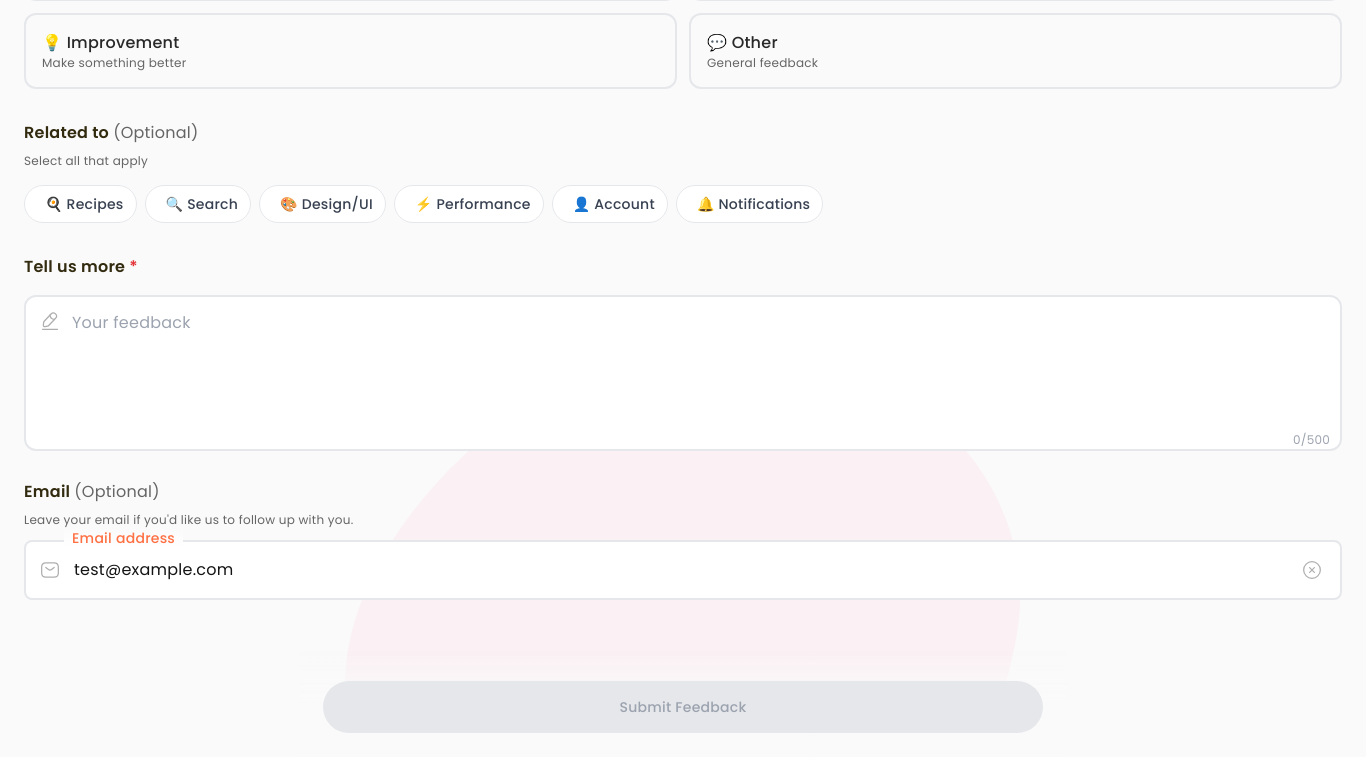
FeedbackPage › Form Interactions › shows character count
This screenshot has width=1366, height=757.
(page scrolled)
Type "Test" into the text box with placeholder "Your feedback" at {"x": 683, "y": 373}, box [24,295,1342,451]
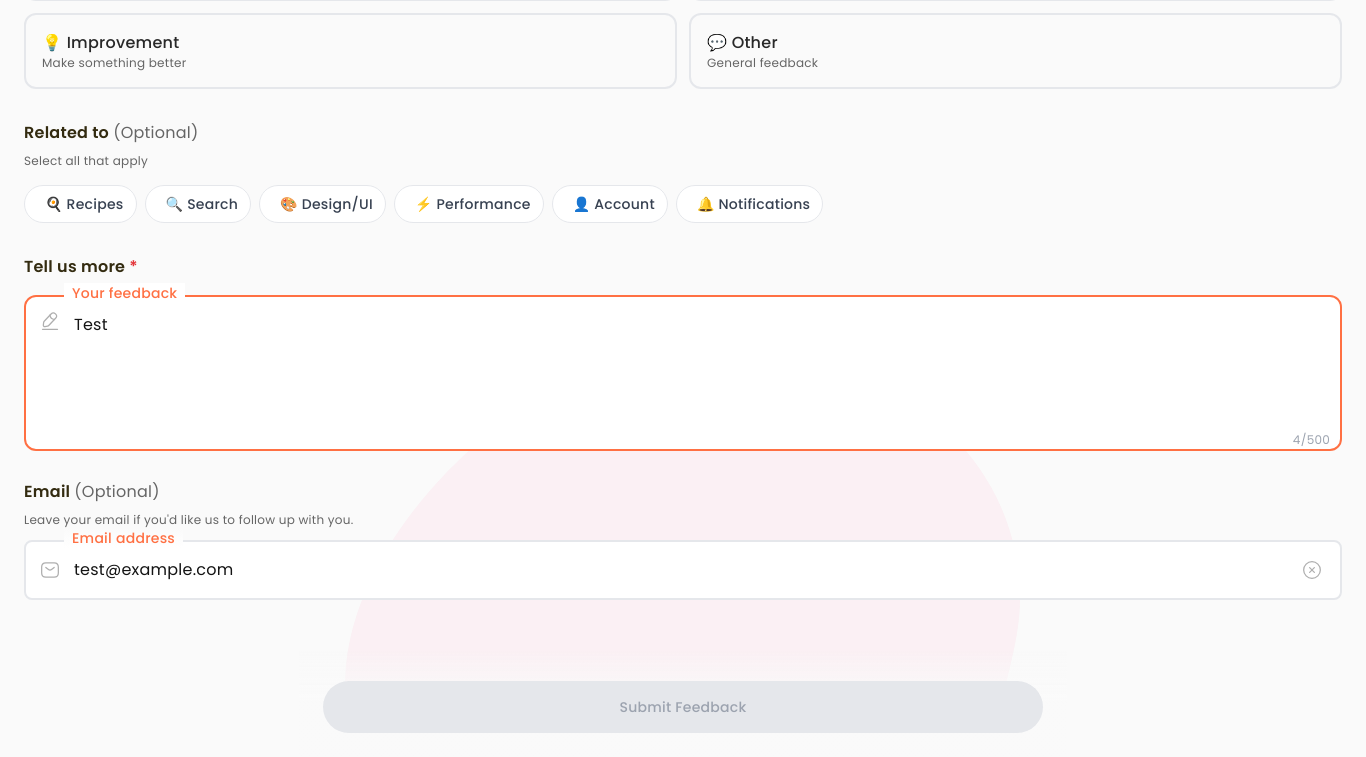
Check: the text "4/500" is shown, box [1293,432,1330,448]
